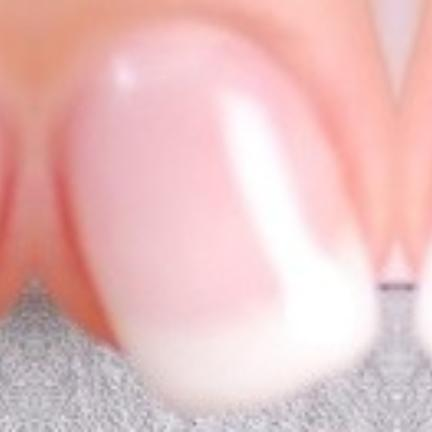Nail: (60, 20, 379, 414), (414, 232, 432, 352), (0, 120, 8, 201)
